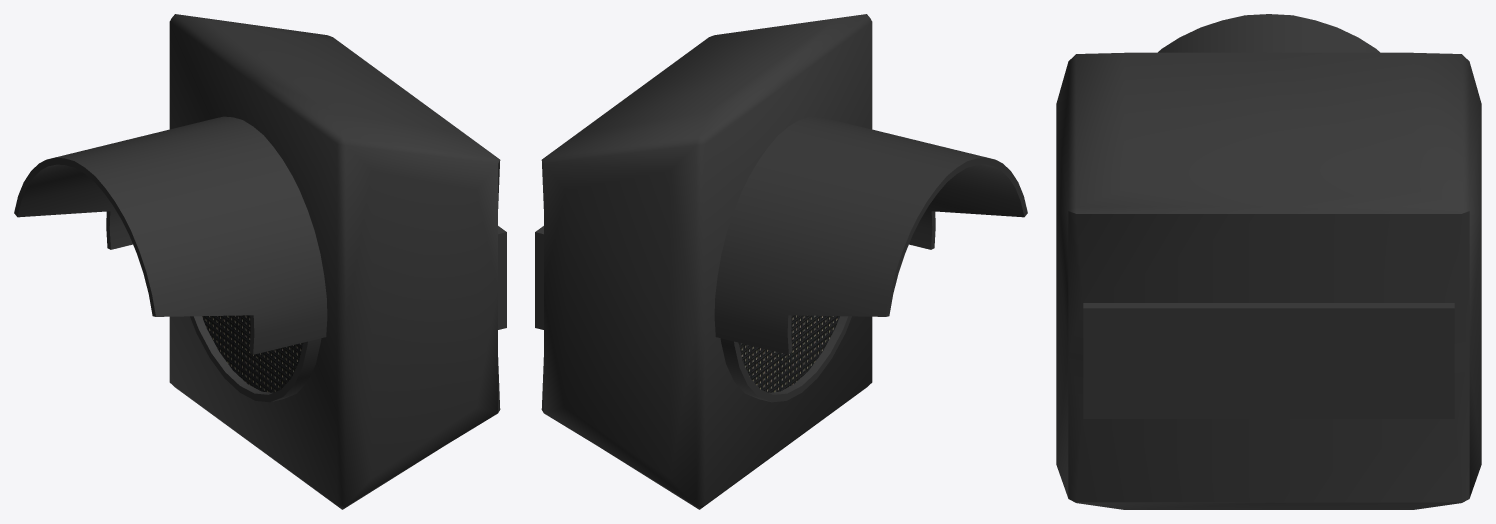
Rendered from 车道信号灯.fbx.
3 views of the same model, side by side, from view 1: azimuth 30°, elevation 25°; view 2: azimuth 150°, elevation 25°; view 3: azimuth 270°, elevation 25° (orthographic). The views are drawn at different scales.
Visible parts, largest first — view 1: 车道信号灯; view 2: 车道信号灯; view 3: 车道信号灯.
Boxes of the visible parts, x1=… form: 车道信号灯: x1=14, y1=14, x2=506, y2=509; 车道信号灯: x1=535, y1=14, x2=1027, y2=509; 车道信号灯: x1=1056, y1=14, x2=1481, y2=509.
Size of the model in its own units: 0.6 by 0.65 by 0.5618.
Materials: 2 (1 with a texture image).
